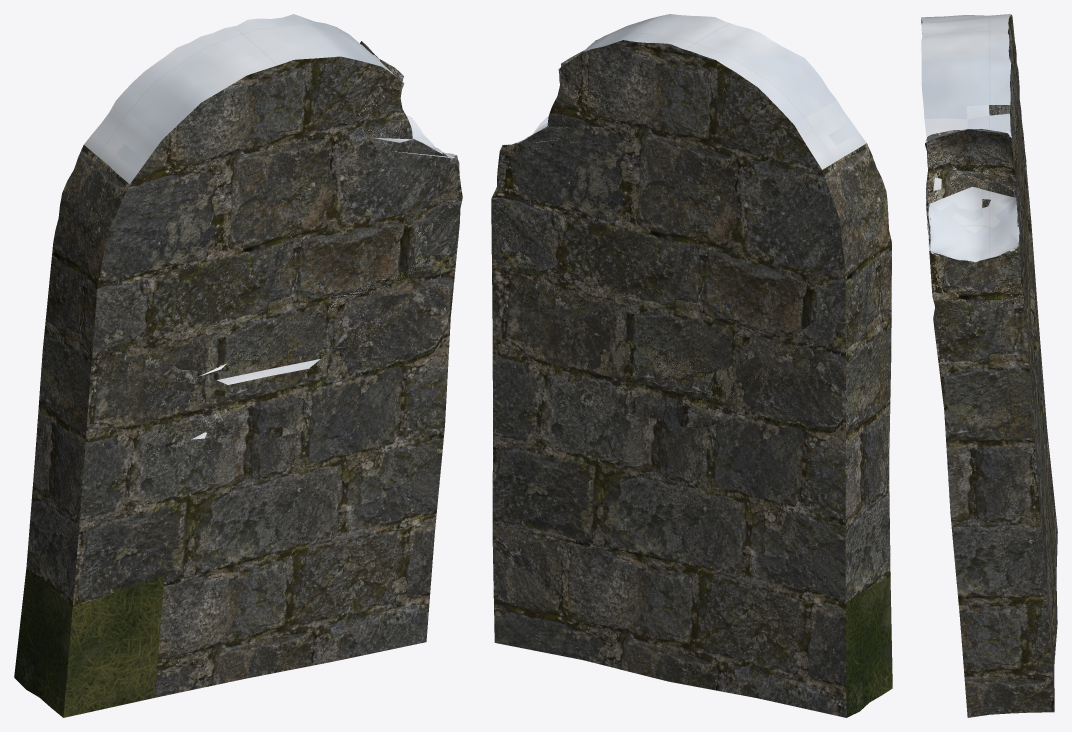
Rendered from snowy-grave-marker-v02.glb.
3 renders of one model, left to right at view 1: azimuth 30°, elevation 25°; view 2: azimuth 150°, elevation 25°; view 3: azimuth 270°, elevation 25°, orthographic. The views are drawn at different scales.
Parts seen in each view (by area): view 1: grave-marker; view 2: grave-marker; view 3: grave-marker.
Part boxes in pixels (bbox=[...]): grave-marker: bbox=[14, 14, 462, 717]; grave-marker: bbox=[491, 14, 892, 717]; grave-marker: bbox=[921, 14, 1057, 717].
Bounding box in the file's own units: 0.9574 × 1.53 × 0.31.
Materials: 3 (3 with a texture image).
